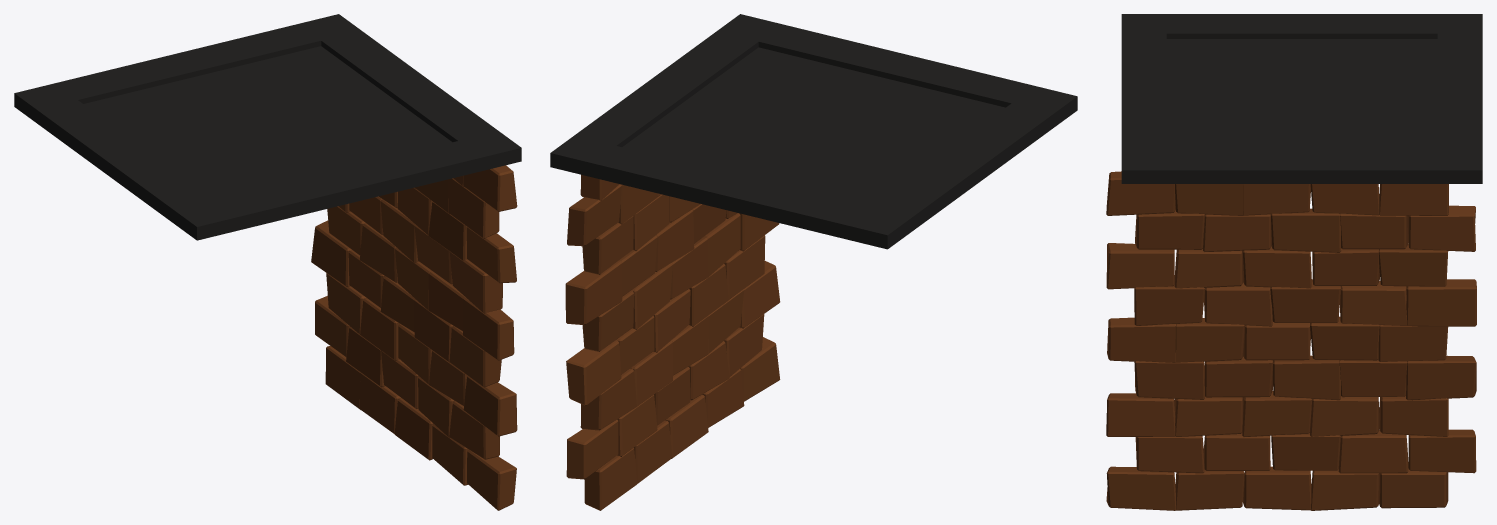
Rendered from BrickWall-RedBrick-Roof-Flat.fbx.
The picture shows the model from 3 angles, left to right: view 1: azimuth 30°, elevation 25°; view 2: azimuth 150°, elevation 25°; view 3: azimuth 270°, elevation 25°; orthographic projection. The views are drawn at different scales.
Parts seen in each view (by area): view 1: Cube.003, Stone Base wall.005; view 2: Cube.003, Stone Base wall.005; view 3: Stone Base wall.005, Cube.003.
Boxes of the visible parts, x1,y1,x2,y2 form: Cube.003: [14, 14, 521, 240]; Stone Base wall.005: [311, 165, 517, 510]; Cube.003: [550, 14, 1077, 249]; Stone Base wall.005: [565, 174, 780, 510]; Stone Base wall.005: [1106, 171, 1476, 510]; Cube.003: [1121, 14, 1482, 183].
Size of the model in its own units: 910 by 940 by 925.
